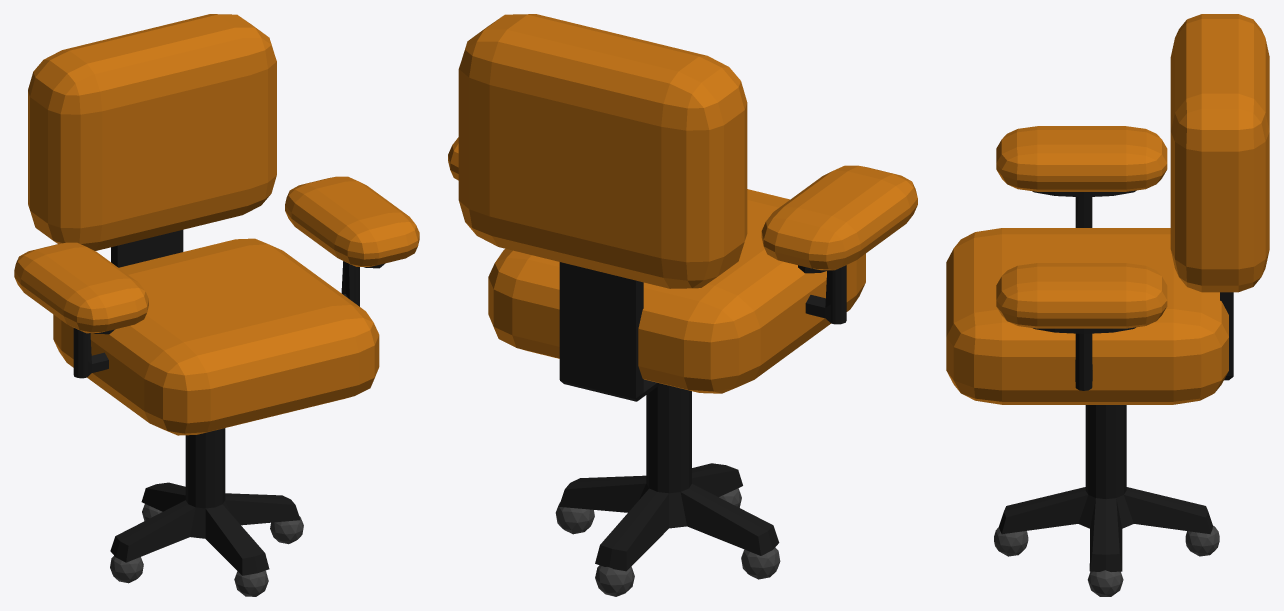
File: hh_office_chair.glb
The picture shows the model from 3 angles, left to right: view 1: azimuth 30°, elevation 25°; view 2: azimuth 150°, elevation 25°; view 3: azimuth 270°, elevation 25°; orthographic projection. The views are drawn at different scales.
Visible parts, largest first — view 1: Chair_E; view 2: Chair_E; view 3: Chair_E.
Part boxes in pixels (bbox=[...]): Chair_E: bbox=[14, 14, 419, 596]; Chair_E: bbox=[448, 14, 917, 596]; Chair_E: bbox=[946, 14, 1269, 596].
Size of the model in its own units: 0.8592 by 1.13 by 0.6645.
